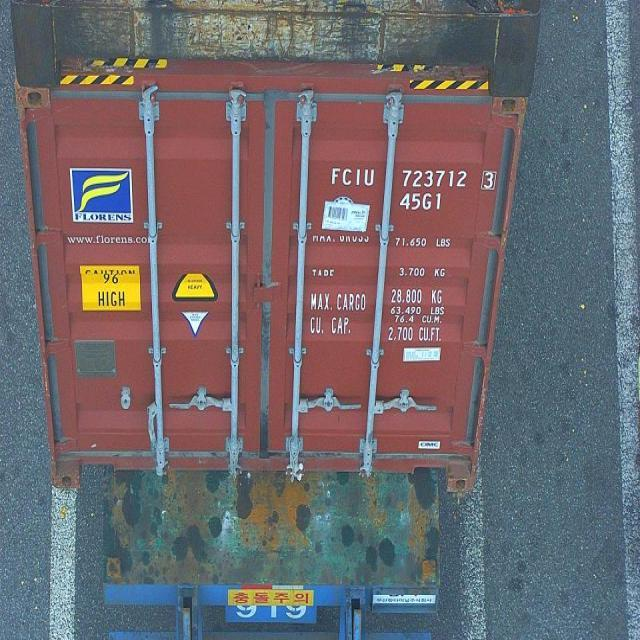ISO: (397, 194, 442, 213)
container_number: (333, 170, 498, 189)
